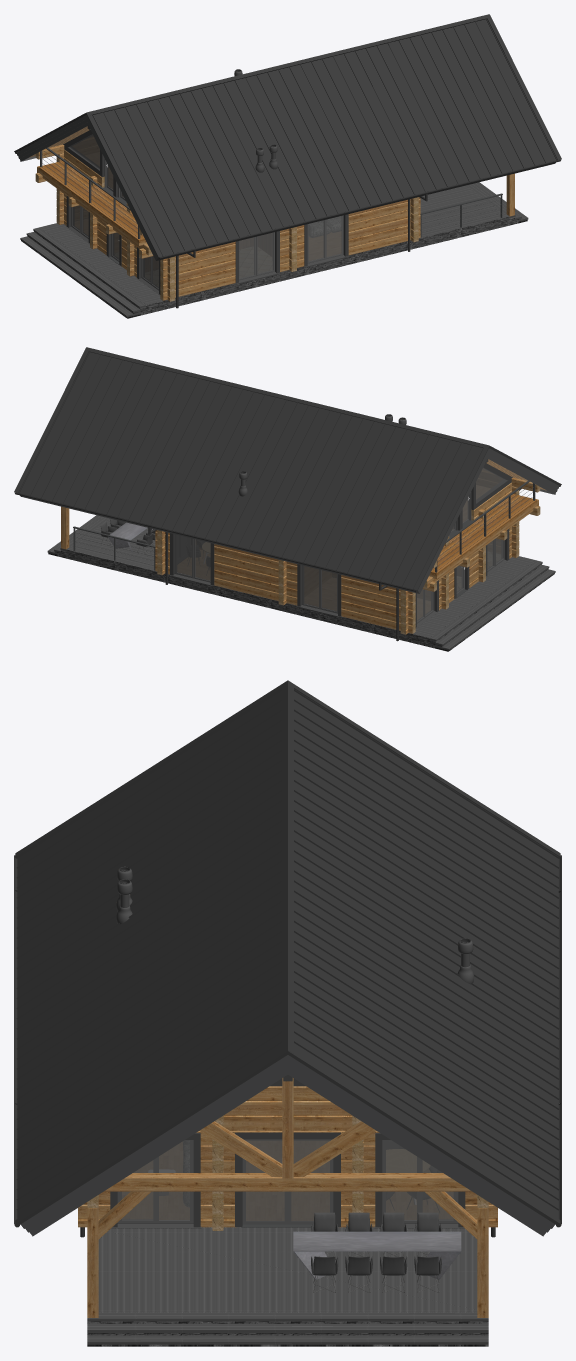
File: house4.glb
3 views of the same model, one above another, from view 1: azimuth 30°, elevation 25°; view 2: azimuth 150°, elevation 25°; view 3: azimuth 270°, elevation 25° (orthographic). The views are drawn at different scales.
Visible parts, largest first — view 1: object 28, object 1, object 2, object 34, object 11, object 27, object 3, object 33, object 6, object 5, object 31, object 29 (+1 smaller); view 2: object 28, object 1, object 2, object 34, object 11, object 27, object 3, object 33, object 6, object 5, object 31, object 29 (+2 smaller); view 3: object 28, object 2, object 1, object 27, object 34, GDLM20_M_5cd53ef4_d8b4_4d29__GDLM20_M_5cd53ef4_d8b4_4d29__0, GDLM49_920_GDLM49_920_0, object 11, object 33, object 5, object 6, object 32.
Boxes of the visible parts, bbox=[...] form: object 28: bbox=[14, 14, 561, 308]; object 1: bbox=[36, 144, 514, 301]; object 2: bbox=[20, 182, 528, 317]; object 34: bbox=[70, 134, 341, 288]; object 11: bbox=[21, 216, 527, 318]; object 27: bbox=[16, 115, 555, 260]; object 3: bbox=[38, 161, 145, 241]; object 33: bbox=[63, 125, 348, 294]; object 6: bbox=[35, 152, 418, 301]; object 5: bbox=[71, 159, 343, 290]; object 31: bbox=[40, 147, 502, 264]; object 29: bbox=[66, 226, 349, 295]; object 28: bbox=[14, 347, 561, 641]; object 1: bbox=[61, 477, 539, 634]; object 2: bbox=[47, 515, 555, 650]; object 34: bbox=[176, 467, 505, 621]; object 11: bbox=[48, 549, 554, 651]; object 27: bbox=[20, 448, 559, 593]; object 3: bbox=[430, 494, 537, 574]; object 33: bbox=[170, 459, 512, 627]; object 6: bbox=[157, 485, 540, 634]; object 5: bbox=[174, 492, 504, 623]; object 31: bbox=[73, 480, 535, 597]; object 29: bbox=[169, 559, 509, 628]; object 28: bbox=[14, 680, 561, 1237]; object 2: bbox=[87, 1227, 488, 1344]; object 1: bbox=[78, 1078, 497, 1317]; object 27: bbox=[20, 1055, 555, 1236]; object 34: bbox=[122, 1140, 453, 1221]; GDLM20_M_5cd53ef4_d8b4_4d29__GDLM20_M_5cd53ef4_d8b4_4d29__0: bbox=[293, 1231, 461, 1279]; GDLM49_920_GDLM49_920_0: bbox=[311, 1212, 441, 1275]; object 11: bbox=[87, 1321, 488, 1346]; object 33: bbox=[110, 1075, 465, 1227]; object 5: bbox=[117, 1139, 458, 1224]; object 6: bbox=[87, 1115, 488, 1230]; object 32: bbox=[116, 866, 473, 984].
Size of the model in its own units: 19.4 by 7.33 by 11.75.
34 materials, 16 textured.
